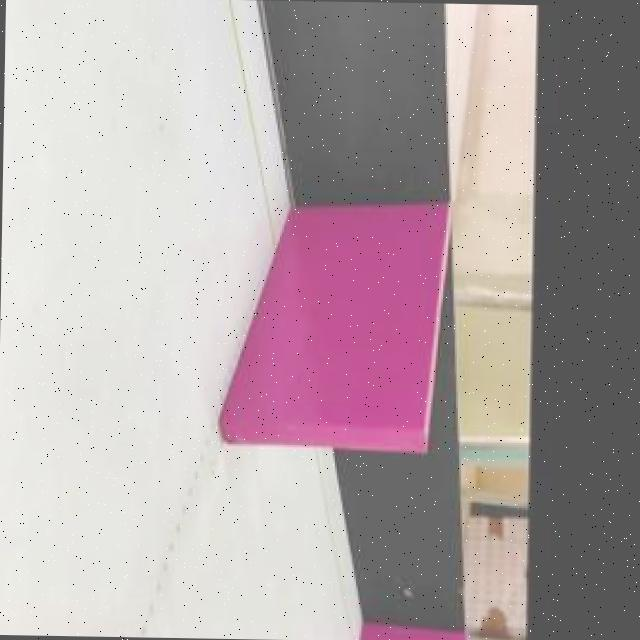xparking: (238, 207, 428, 446)
